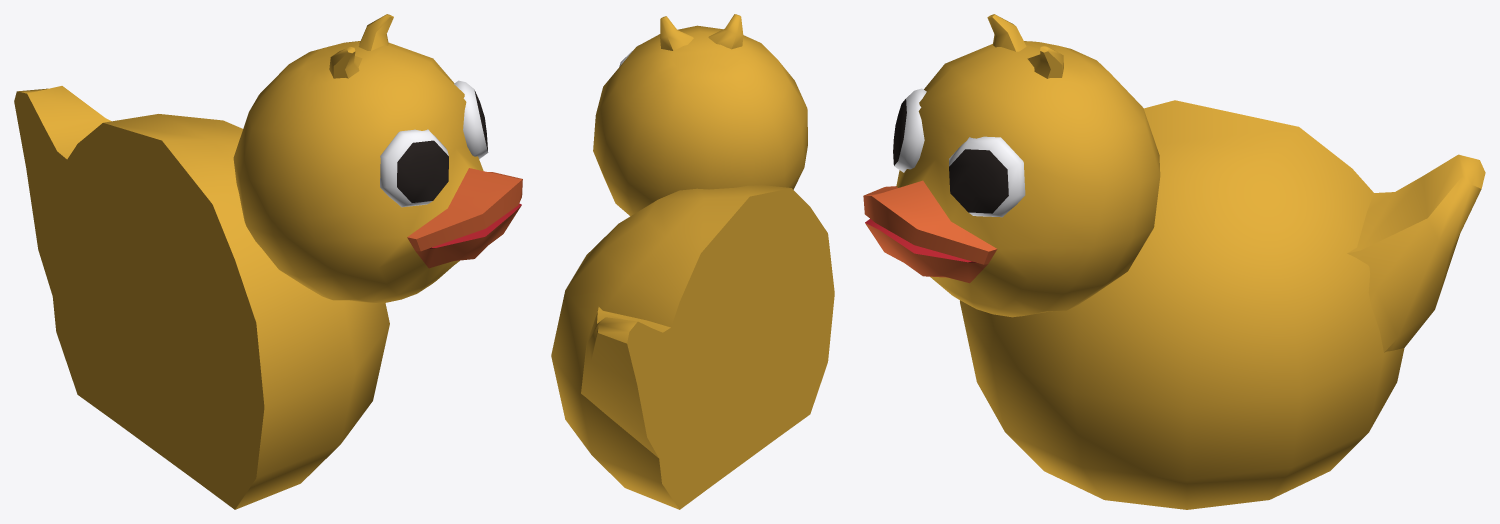
Rendered from duckR.fbx.
3 renders of one model, left to right at view 1: azimuth 30°, elevation 25°; view 2: azimuth 150°, elevation 25°; view 3: azimuth 270°, elevation 25°, orthographic. The views are drawn at different scales.
Visible parts, largest first — view 1: duck.004; view 2: duck.004; view 3: duck.004.
Boxes of the visible parts, x1=… form: duck.004: x1=14, y1=14, x2=522, y2=509; duck.004: x1=551, y1=14, x2=834, y2=509; duck.004: x1=863, y1=14, x2=1485, y2=509.
Size of the model in its own units: 153 by 269 by 323.
